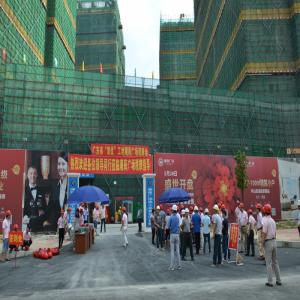none: (59, 153, 69, 179), (28, 166, 39, 186), (223, 211, 228, 219), (27, 227, 32, 234), (152, 210, 156, 216), (86, 207, 88, 211), (140, 206, 142, 210)
red: (265, 204, 273, 218), (6, 211, 13, 221), (256, 204, 262, 215), (240, 204, 245, 213), (15, 225, 20, 233), (262, 208, 266, 218), (61, 210, 65, 218), (77, 210, 81, 218), (200, 208, 204, 216), (68, 208, 72, 215), (81, 209, 85, 216), (123, 208, 127, 215), (249, 210, 253, 217), (168, 210, 172, 216), (181, 206, 185, 212), (222, 206, 226, 212), (161, 205, 164, 212), (178, 207, 181, 214), (191, 207, 194, 214), (237, 201, 240, 208), (219, 204, 222, 210), (82, 203, 85, 208), (97, 206, 100, 211), (103, 206, 106, 210), (87, 202, 89, 206)
white: (173, 205, 178, 216), (214, 205, 219, 214), (186, 209, 190, 218), (157, 207, 161, 215), (182, 210, 186, 218), (195, 207, 199, 214), (206, 209, 210, 216), (298, 200, 300, 212)
yellow: (120, 207, 122, 210)
